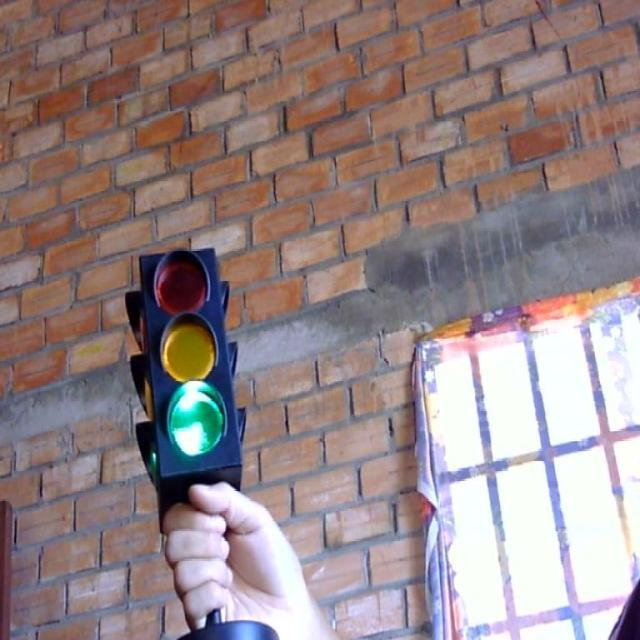green light: (166, 379, 228, 458)
